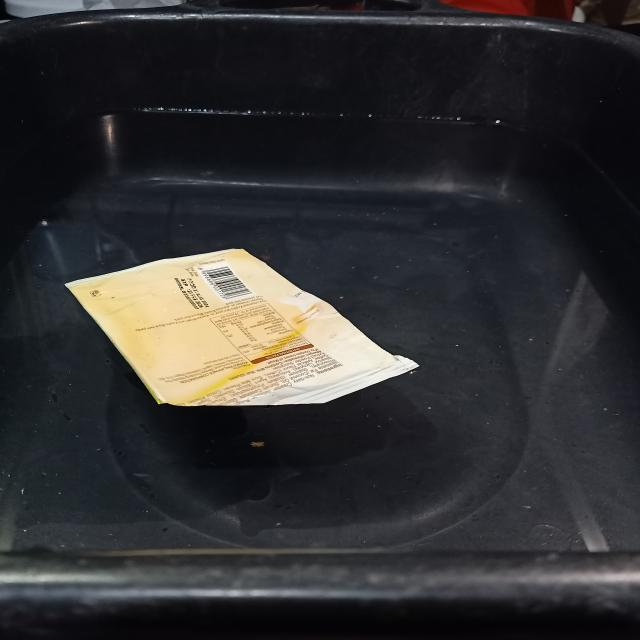Plastic Wrapper: (66, 249, 417, 407)
